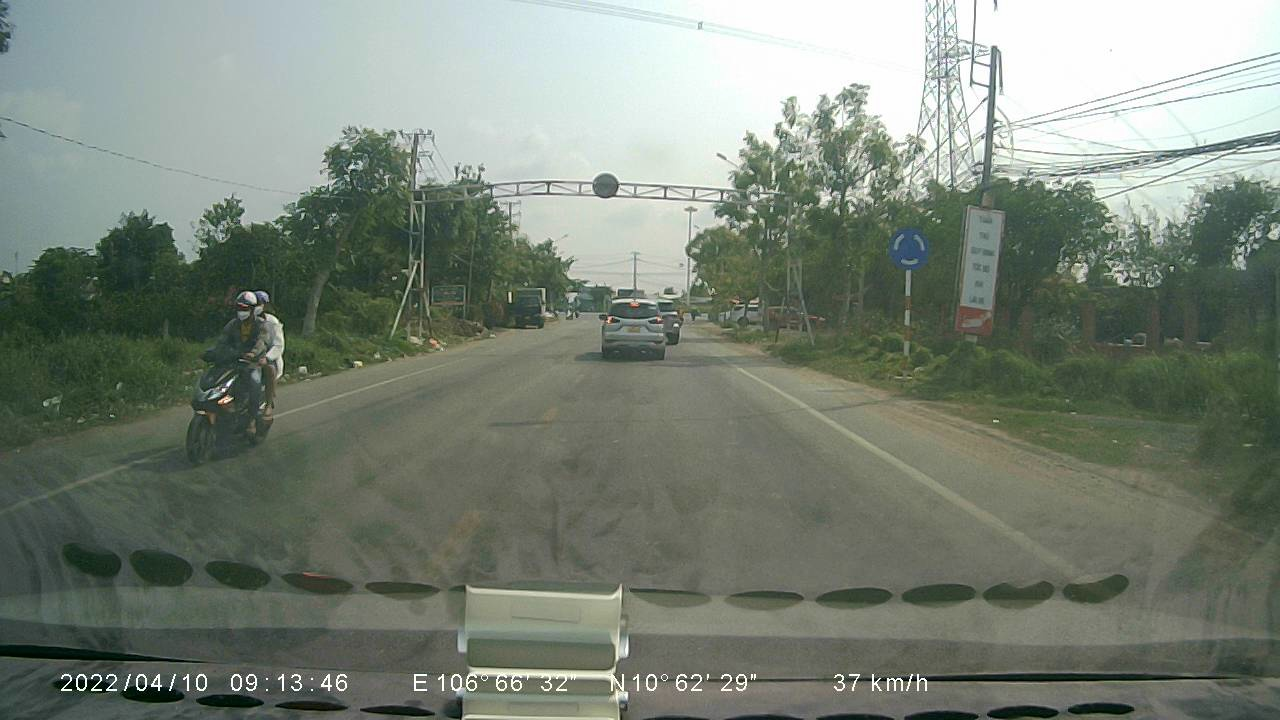Bien khac: (886, 224, 926, 270)
